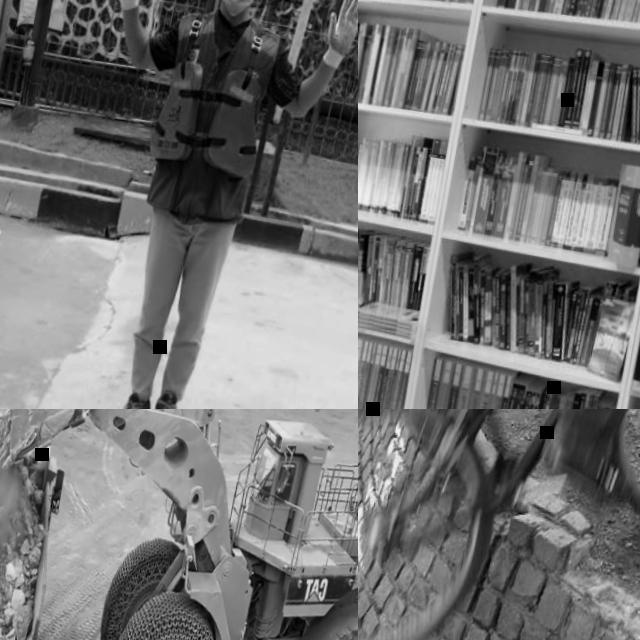Mask: (213, 0, 262, 18)
Person: (33, 0, 358, 409), (413, 409, 640, 515)
Safety Vest: (147, 7, 285, 179)
machinery: (0, 409, 358, 640), (0, 409, 79, 640)
